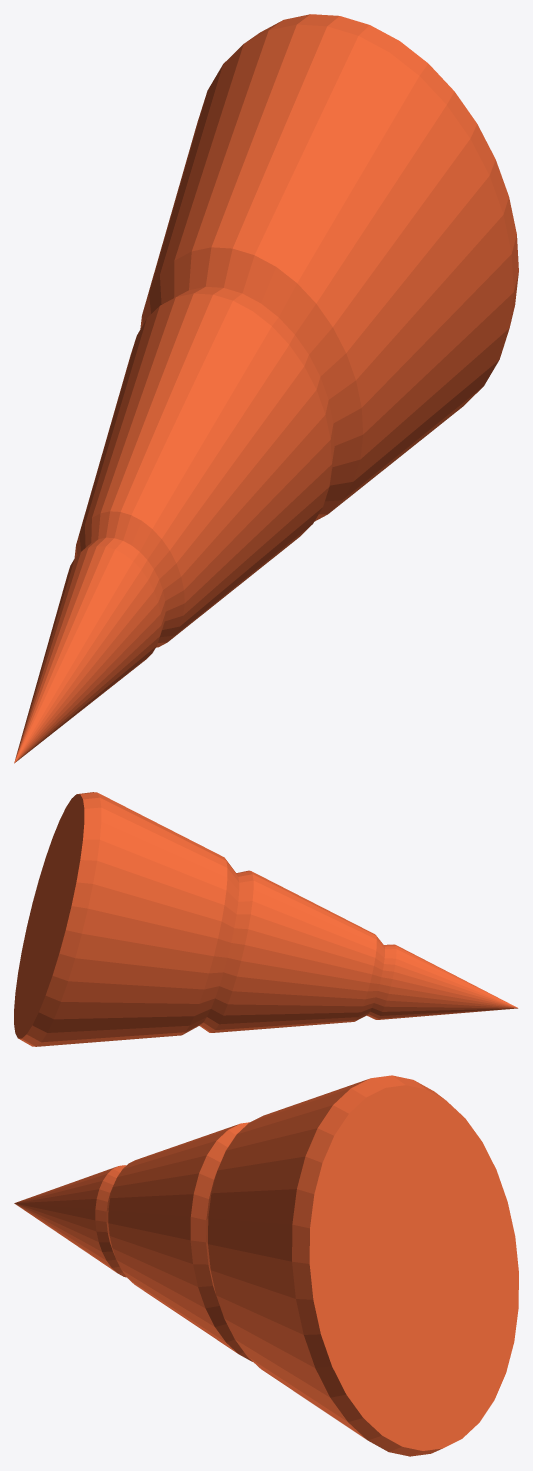
3 renders of one model, top to bottom at view 1: azimuth 30°, elevation 25°; view 2: azimuth 150°, elevation 25°; view 3: azimuth 270°, elevation 25°, orthographic. The views are drawn at different scales.
Parts seen in each view (by area): view 1: Cylinder.001; view 2: Cylinder.001; view 3: Cylinder.001.
Boxes of the visible parts, x1,y1,x2,y2 form: Cylinder.001: (14,14,518,763); Cylinder.001: (14,792,518,1046); Cylinder.001: (14,1075,518,1456).
Bounding box in the file's own units: 9.51 × 5.74 × 7.7.
